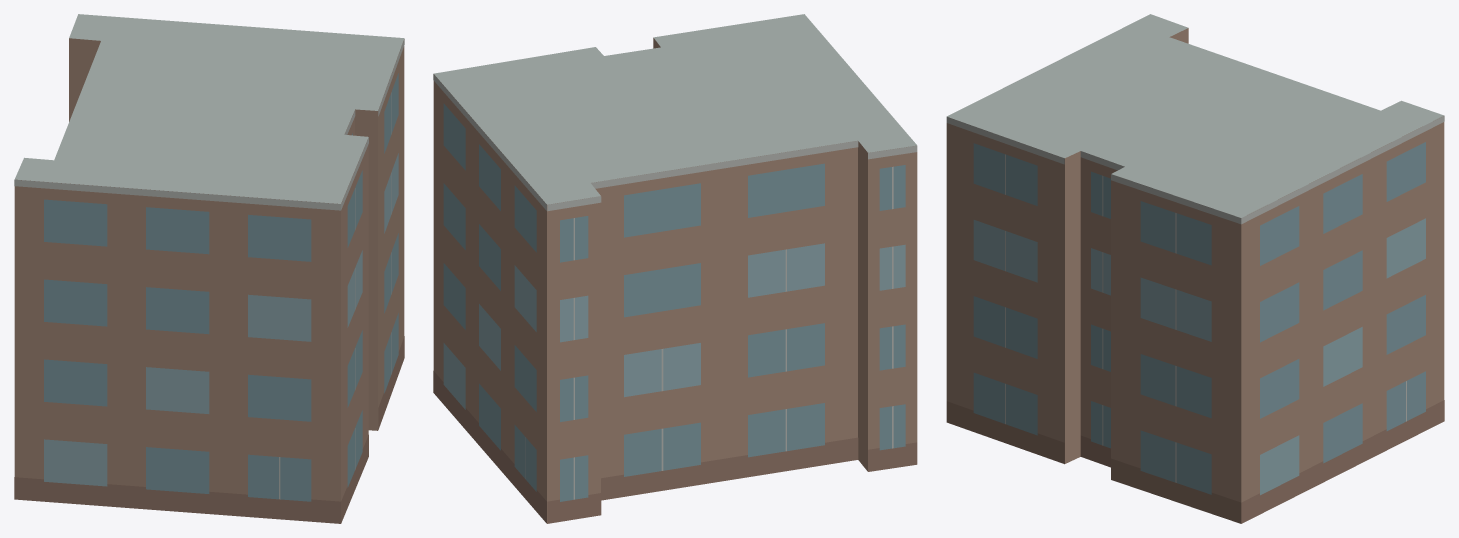
The model's file is survey-upis-32705498.glb.
3 views of the same model, side by side, from view 1: azimuth 30°, elevation 25°; view 2: azimuth 150°, elevation 25°; view 3: azimuth 270°, elevation 25° (orthographic). The views are drawn at different scales.
Visible parts, largest first — view 1: survey-upis-32705498.tmp; view 2: survey-upis-32705498.tmp; view 3: survey-upis-32705498.tmp.
Boxes of the visible parts, x1=… form: survey-upis-32705498.tmp: x1=14, y1=14, x2=404, y2=523; survey-upis-32705498.tmp: x1=433, y1=14, x2=917, y2=523; survey-upis-32705498.tmp: x1=946, y1=14, x2=1444, y2=523.
Bounding box in the file's own units: 16.9 × 11.8 × 17.42.
